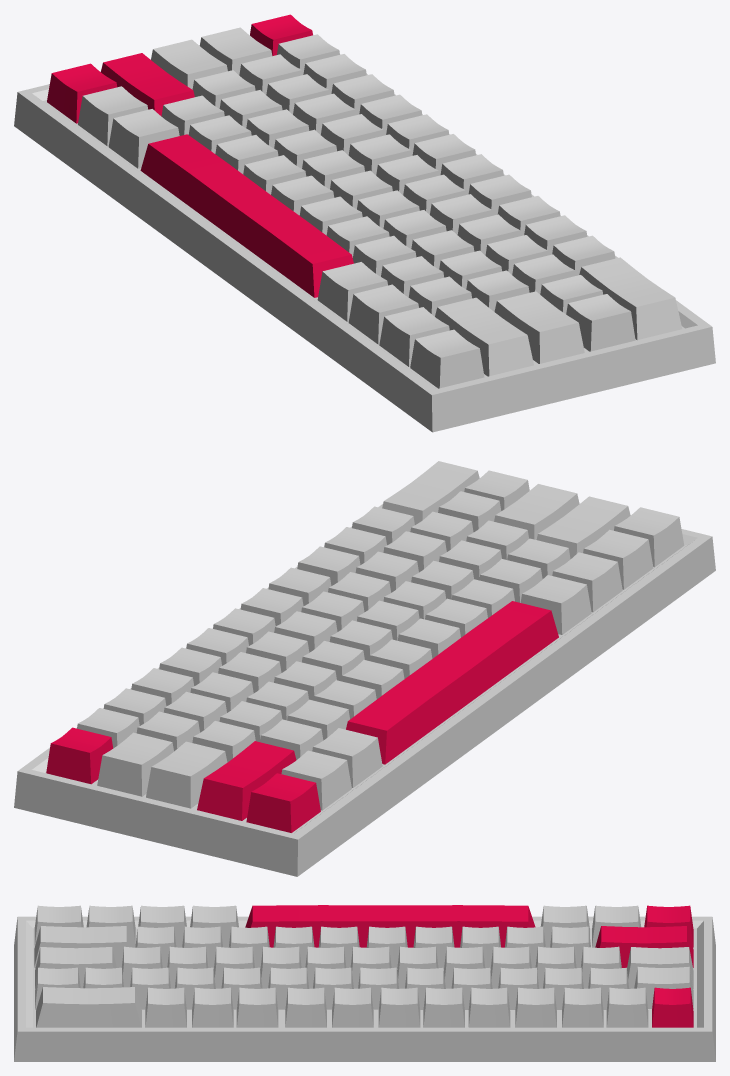
File: FatherKeyboard.fbx
3 renders of one model, top to bottom at view 1: azimuth 30°, elevation 25°; view 2: azimuth 150°, elevation 25°; view 3: azimuth 270°, elevation 25°, orthographic. The views are drawn at different scales.
Visible parts, largest first — view 1: Base, pCube215, pCube229, pCube220, pCube221, pCube219, pCube177, pCube222, pCube180, pCube178, pCube216, pCube218 (+49 smaller); view 2: Base, pCube215, pCube177, pCube176, pCube178, pCube175, pCube229, pCube220, pCube170, pCube221, pCube216, pCube217 (+49 smaller); view 3: Base, pCube215, pCube229, pCube220, pCube177, pCube221, pCube174, pCube226, pCube171, pCube212, pCube228, pCube172 (+49 smaller).
Boxes of the visible parts, <box> form: Base: <box>14,34,715,432</box>; pCube215: <box>140,134,353,297</box>; pCube229: <box>579,257,682,339</box>; pCube220: <box>435,297,533,376</box>; pCube221: <box>494,291,584,363</box>; pCube219: <box>410,329,484,388</box>; pCube177: <box>101,53,194,116</box>; pCube222: <box>566,294,635,351</box>; pCube180: <box>108,109,179,168</box>; pCube178: <box>47,63,117,123</box>; pCube216: <box>317,262,387,321</box>; pCube218: <box>379,307,449,366</box>; Base: <box>14,504,715,876</box>; pCube215: <box>346,601,558,764</box>; pCube177: <box>197,741,296,820</box>; pCube176: <box>146,741,227,808</box>; pCube178: <box>246,773,320,832</box>; pCube175: <box>97,732,173,796</box>; pCube229: <box>382,461,479,524</box>; pCube220: <box>536,496,630,558</box>; pCube170: <box>46,727,113,784</box>; pCube221: <box>494,484,579,539</box>; pCube216: <box>520,575,591,634</box>; pCube217: <box>552,552,622,612</box>; Base: <box>14,916,715,1061</box>; pCube215: <box>245,905,535,947</box>; pCube229: <box>36,987,141,1027</box>; pCube220: <box>34,926,131,967</box>; pCube177: <box>595,926,693,967</box>; pCube221: <box>35,947,116,988</box>; pCube174: <box>468,987,510,1027</box>; pCube226: <box>236,987,278,1027</box>; pCube171: <box>606,987,648,1027</box>; pCube212: <box>378,987,420,1027</box>; pCube228: <box>145,987,186,1027</box>; pCube172: <box>562,987,603,1027</box>.
Size of the model in its own units: 17.32 by 3.47 by 44.28.
